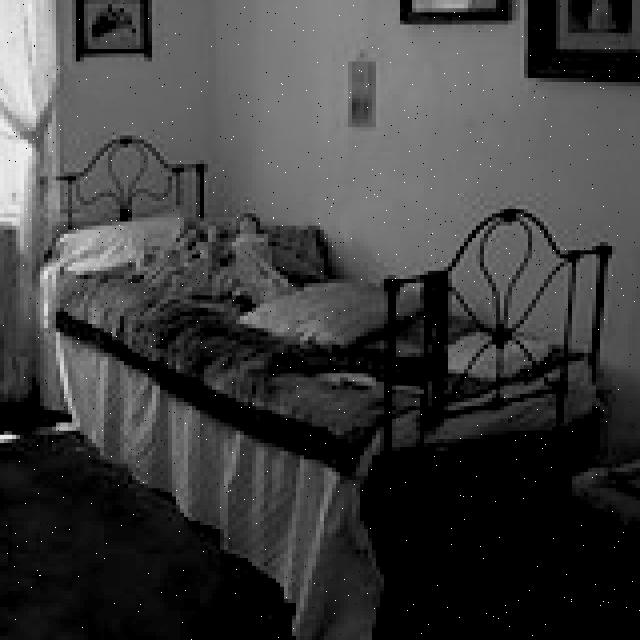bed: (23, 206, 610, 590)
